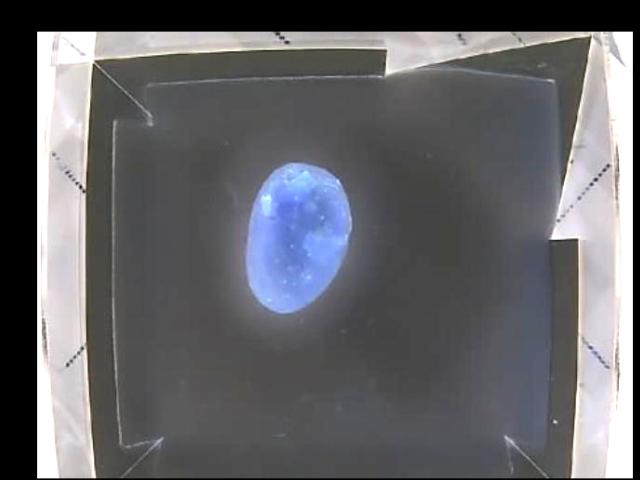Potato: (246, 161, 354, 314)
